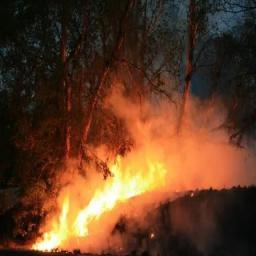Low smoke: (71, 85, 256, 187)
Medium fire: (28, 157, 175, 253)
